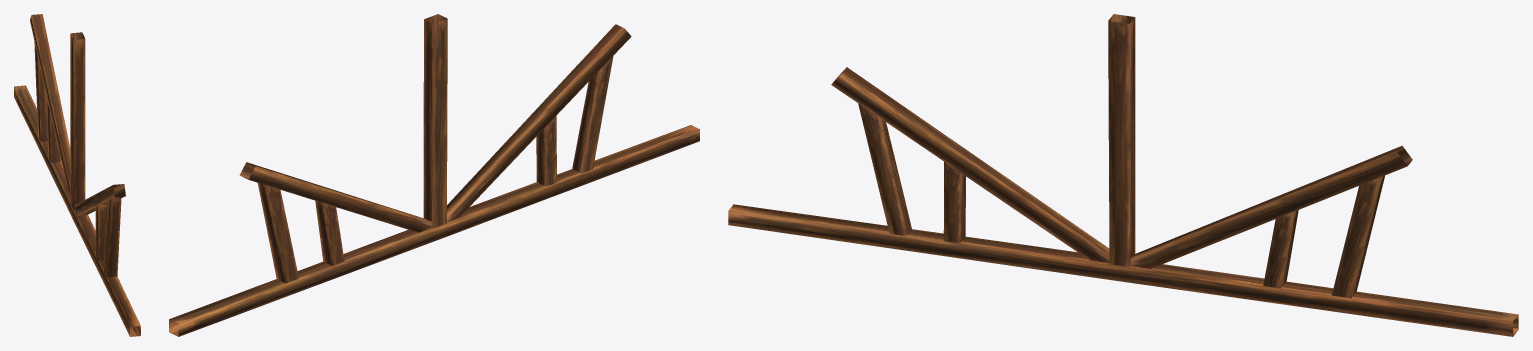
File: SWORDLIGHT20_JAILCEILBRACKET16.fbx
3 renders of one model, left to right at view 1: azimuth 30°, elevation 25°; view 2: azimuth 150°, elevation 25°; view 3: azimuth 270°, elevation 25°, orthographic. The views are drawn at different scales.
Parts seen in each view (by area): view 1: SWORDLIGHT20_JAILCEILBRACKET16; view 2: SWORDLIGHT20_JAILCEILBRACKET16; view 3: SWORDLIGHT20_JAILCEILBRACKET16.
Boxes of the visible parts, left/top/right/bottom form: SWORDLIGHT20_JAILCEILBRACKET16: left=14, top=14, right=140, bottom=336; SWORDLIGHT20_JAILCEILBRACKET16: left=169, top=14, right=699, bottom=336; SWORDLIGHT20_JAILCEILBRACKET16: left=728, top=14, right=1518, bottom=336.
Bounding box in the file's own units: 48397 × 49666 × 137381.
1 material, 1 textured.
